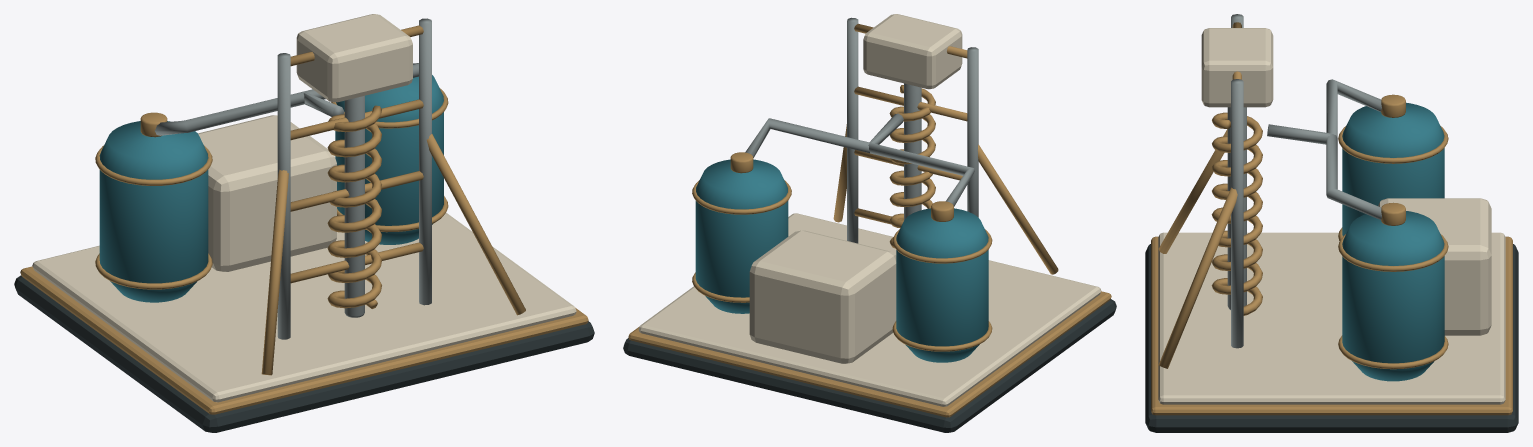
Rendered from ice-w02.glb.
3 renders of one model, left to right at view 1: azimuth 30°, elevation 25°; view 2: azimuth 150°, elevation 25°; view 3: azimuth 270°, elevation 25°, orthographic. The views are drawn at different scales.
Parts seen in each view (by area): view 1: H01 batch 02 / Ares S02 / ceramic pressure shell, H01 batch 01 / Ares S02 / brushed bronze, H01 batch 04 / Ares S02 / water utility enamel, H01 batch 03 / Ares S02 / titanium struts, H01 batch 00 / Ares S02 / charcoal seals; view 2: H01 batch 02 / Ares S02 / ceramic pressure shell, H01 batch 04 / Ares S02 / water utility enamel, H01 batch 01 / Ares S02 / brushed bronze, H01 batch 03 / Ares S02 / titanium struts, H01 batch 00 / Ares S02 / charcoal seals; view 3: H01 batch 02 / Ares S02 / ceramic pressure shell, H01 batch 04 / Ares S02 / water utility enamel, H01 batch 01 / Ares S02 / brushed bronze, H01 batch 00 / Ares S02 / charcoal seals, H01 batch 03 / Ares S02 / titanium struts.
Part boxes in pixels (left/top/right/bottom): H01 batch 02 / Ares S02 / ceramic pressure shell: left=32, top=14, right=576, bottom=402; H01 batch 01 / Ares S02 / brushed bronze: left=20, top=25, right=588, bottom=414; H01 batch 04 / Ares S02 / water utility enamel: left=99, top=75, right=443, bottom=302; H01 batch 03 / Ares S02 / titanium struts: left=155, top=18, right=431, bottom=339; H01 batch 00 / Ares S02 / charcoal seals: left=14, top=275, right=594, bottom=432; H01 batch 02 / Ares S02 / ceramic pressure shell: left=638, top=14, right=1101, bottom=406; H01 batch 04 / Ares S02 / water utility enamel: left=695, top=159, right=988, bottom=362; H01 batch 01 / Ares S02 / brushed bronze: left=628, top=23, right=1111, bottom=417; H01 batch 03 / Ares S02 / titanium struts: left=745, top=17, right=978, bottom=243; H01 batch 00 / Ares S02 / charcoal seals: left=623, top=299, right=1116, bottom=432; H01 batch 02 / Ares S02 / ceramic pressure shell: left=1158, top=28, right=1505, bottom=404; H01 batch 04 / Ares S02 / water utility enamel: left=1342, top=102, right=1444, bottom=381; H01 batch 01 / Ares S02 / brushed bronze: left=1151, top=22, right=1512, bottom=415; H01 batch 00 / Ares S02 / charcoal seals: left=1145, top=244, right=1518, bottom=432; H01 batch 03 / Ares S02 / titanium struts: left=1227, top=14, right=1381, bottom=348.
Size of the model in its own units: 1.66 by 1.32 by 1.46.
